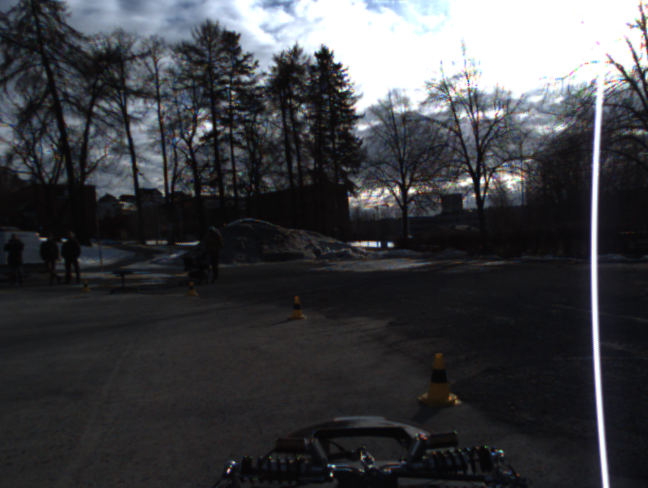cone-small-yellow: (416, 352, 462, 408), (288, 296, 307, 321), (185, 281, 198, 297), (80, 279, 91, 293)
